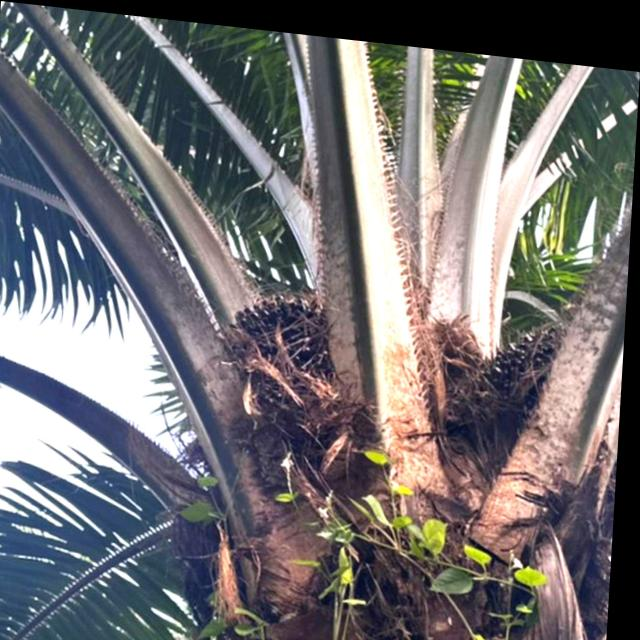almost: (217, 275, 350, 440), (461, 289, 586, 451)
